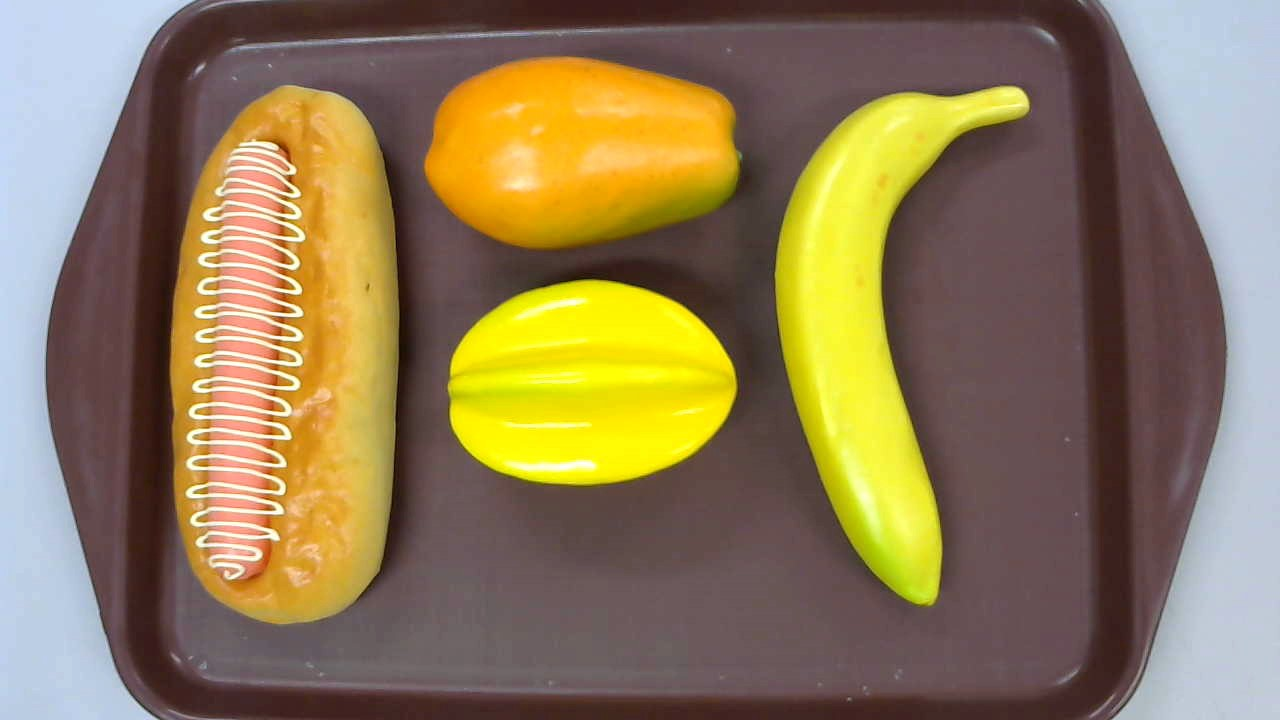banana: (774, 83, 1031, 609)
hot dog: (168, 85, 398, 624)
papya: (424, 55, 745, 249)
star fruit: (445, 280, 738, 486)
